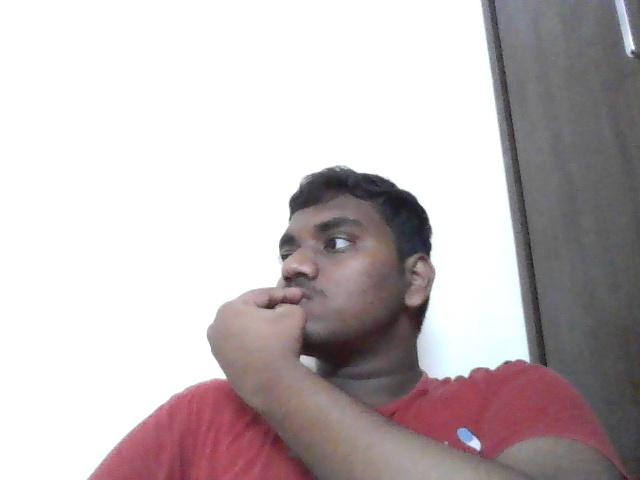Eat: (200, 284, 339, 415)
